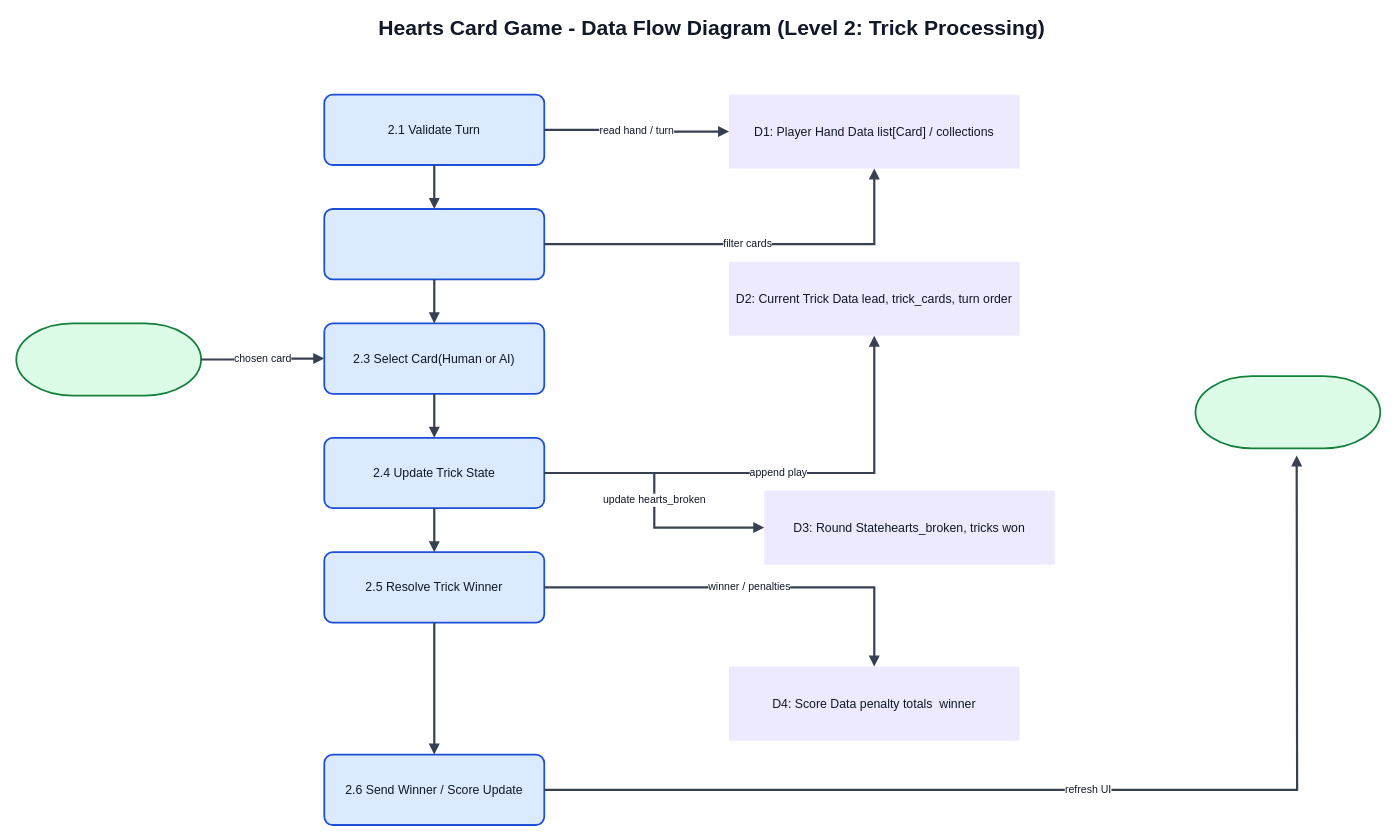
This 1396x840 diagram has some shape labels left out. The box of each missing label's shape, as (x1, y1, x2, y2) in pixels:
2.2 Get Valid Cards: (323, 208, 545, 280)
GUI / Output: (1194, 375, 1381, 449)
Player / User: (15, 322, 202, 396)
